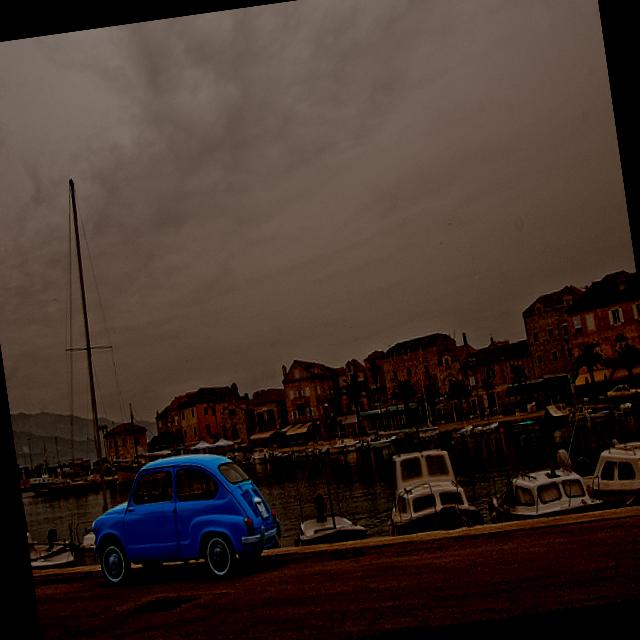Vehicle: (86, 448, 286, 594), (605, 380, 640, 402)
